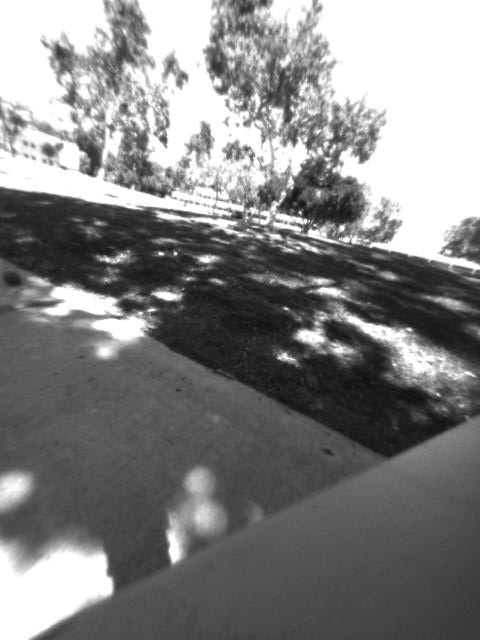dogtoy: (1, 258, 27, 296)
